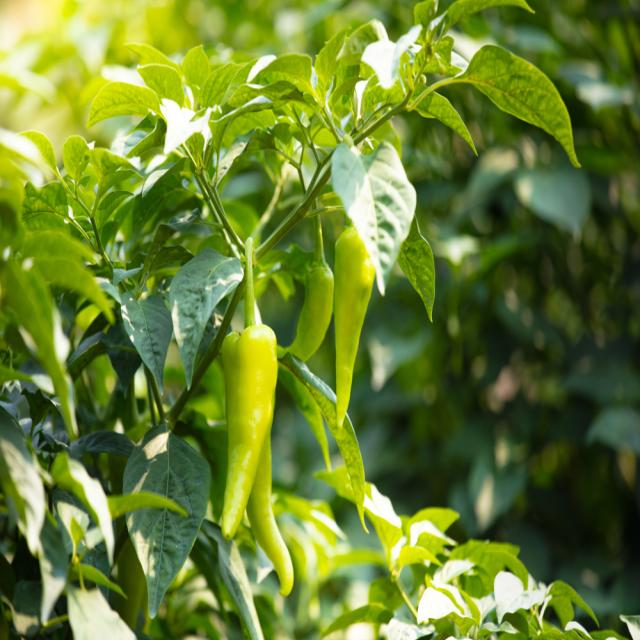Unripe: (221, 324, 278, 540), (334, 225, 375, 427), (246, 437, 294, 595), (282, 262, 334, 362)
